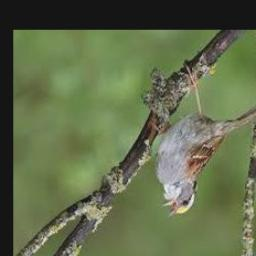Sparrow: (154, 62, 256, 218)
